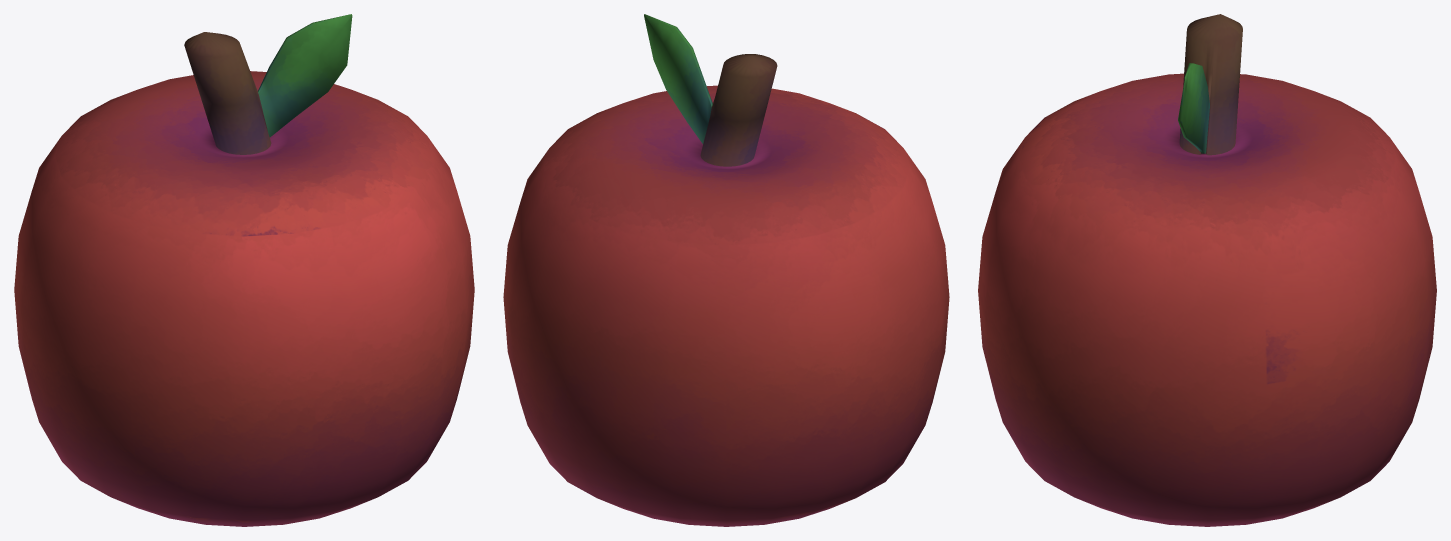
Rendered from apple.fbx.
3 views of the same model, side by side, from view 1: azimuth 30°, elevation 25°; view 2: azimuth 150°, elevation 25°; view 3: azimuth 270°, elevation 25° (orthographic). The views are drawn at different scales.
Visible parts, largest first — view 1: Apple 3; view 2: Apple 3; view 3: Apple 3.
Part boxes in pixels (bbox=[...]): Apple 3: bbox=[14, 14, 474, 526]; Apple 3: bbox=[503, 14, 949, 526]; Apple 3: bbox=[978, 14, 1436, 526].
Bounding box in the file's own units: 65.47 × 69.13 × 65.47.
3 materials, 3 textured.
